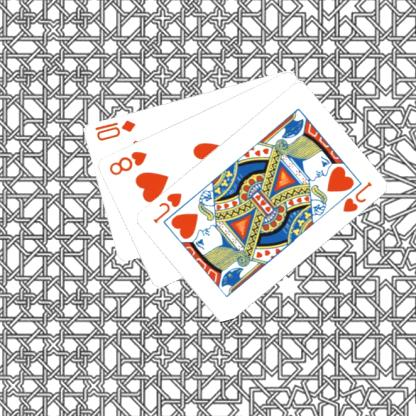10D: (94, 117, 138, 142)
8H: (108, 148, 150, 177)
JH: (341, 178, 375, 214), (151, 190, 185, 225)
